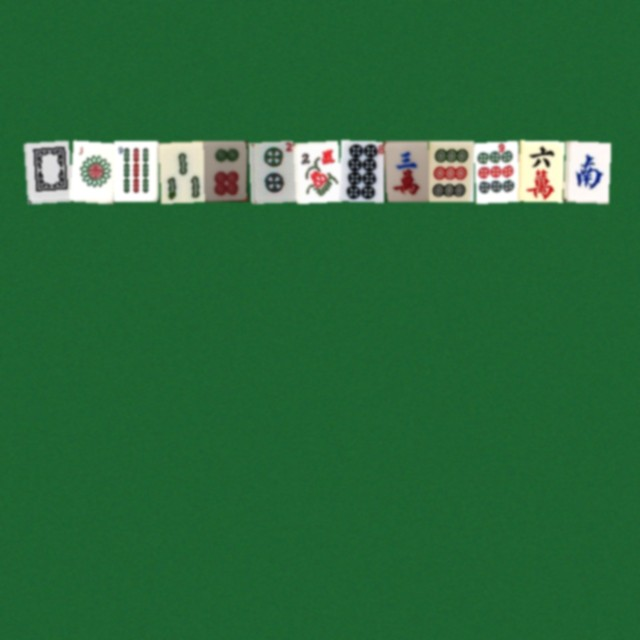tile: (23, 140, 68, 201), (68, 140, 113, 201), (113, 140, 158, 201), (158, 140, 203, 201), (203, 140, 248, 201), (248, 140, 293, 201), (293, 140, 338, 201), (338, 140, 383, 201), (383, 140, 428, 201), (428, 140, 473, 201), (473, 140, 518, 201), (518, 140, 563, 201), (563, 140, 608, 201)
